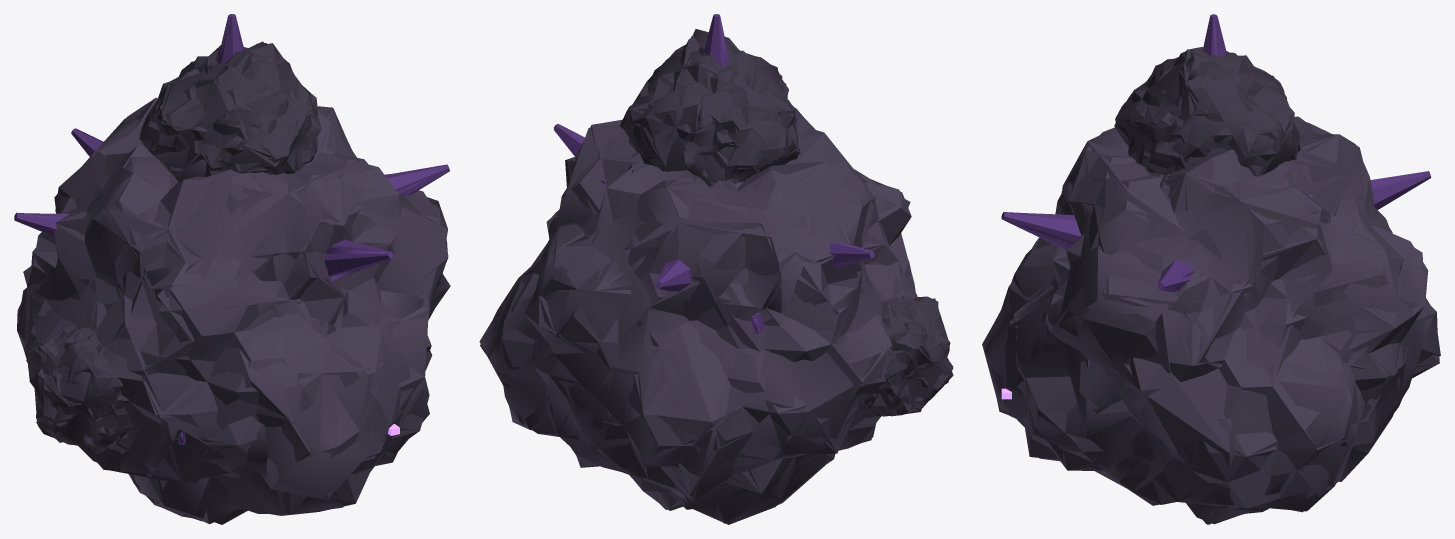
Rendered from place_rock_crystal_boulder.glb.
The picture shows the model from 3 angles, left to right: view 1: azimuth 30°, elevation 25°; view 2: azimuth 150°, elevation 25°; view 3: azimuth 270°, elevation 25°; orthographic projection.
Parts seen in each view (by area): view 1: LOD2_Stone, LOD0_Stone, LOD1_Stone, LOD0_Stone_deep, LOD2_Stone_deep, LOD1_Stone_deep, LOD0_CANOPY, LOD1_CANOPY; view 2: LOD2_Stone, LOD0_Stone, LOD1_Stone, LOD0_Stone_deep, LOD2_Stone_deep, LOD1_Stone_deep, LOD0_CANOPY; view 3: LOD2_Stone, LOD0_Stone, LOD1_Stone, LOD0_Stone_deep, LOD2_Stone_deep, LOD1_Stone_deep, LOD0_CANOPY, LOD1_CANOPY.
Part boxes in pixels (x1,y1,x2,y2): LOD2_Stone: (17,119,447,524); LOD0_Stone: (17,98,449,518); LOD1_Stone: (17,98,450,524); LOD0_Stone_deep: (26,43,321,454); LOD2_Stone_deep: (27,43,317,448); LOD1_Stone_deep: (27,41,320,454); LOD0_CANOPY: (14,14,449,445); LOD1_CANOPY: (14,14,448,257); LOD2_Stone: (479,105,915,524); LOD0_Stone: (480,116,917,523); LOD1_Stone: (479,107,914,524); LOD0_Stone_deep: (620,35,953,416); LOD2_Stone_deep: (623,29,953,416); LOD1_Stone_deep: (620,38,953,416); LOD0_CANOPY: (554,14,874,333); LOD2_Stone: (982,122,1440,523); LOD0_Stone: (987,128,1439,524); LOD1_Stone: (985,116,1439,524); LOD0_Stone_deep: (1115,47,1299,176); LOD2_Stone_deep: (1114,50,1300,172); LOD1_Stone_deep: (1116,48,1299,175); LOD0_CANOPY: (1001,14,1431,291); LOD1_CANOPY: (1002,14,1429,291).
Size of what is drawn, in the model's own units: 10.53 by 12.3 by 10.23.
